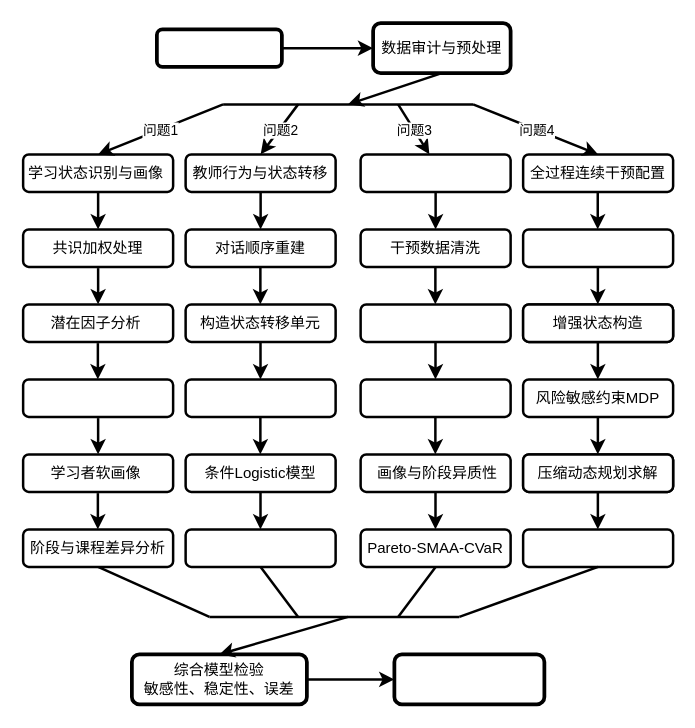
Image size: 695x728. Some labels were removed from this diagram. Here are the shapes that lost their labels. From the top down, the box of each, then its label:
(154, 27, 283, 68): 原始数据
(359, 152, 511, 192): 教学干预效果评价
(521, 228, 674, 268): 四问接口整合
(359, 302, 511, 342): 多重插补处理
(21, 378, 174, 418): PCA降维与GMM聚类
(184, 378, 336, 418): 平滑转移矩阵
(359, 378, 511, 418): 多处理AIPW估计
(184, 528, 336, 568): 弹性网络/RF预测模型
(521, 528, 674, 568): 滚动策略与仿真
(392, 652, 546, 706): 评价与推广 结论与教学应用建议
